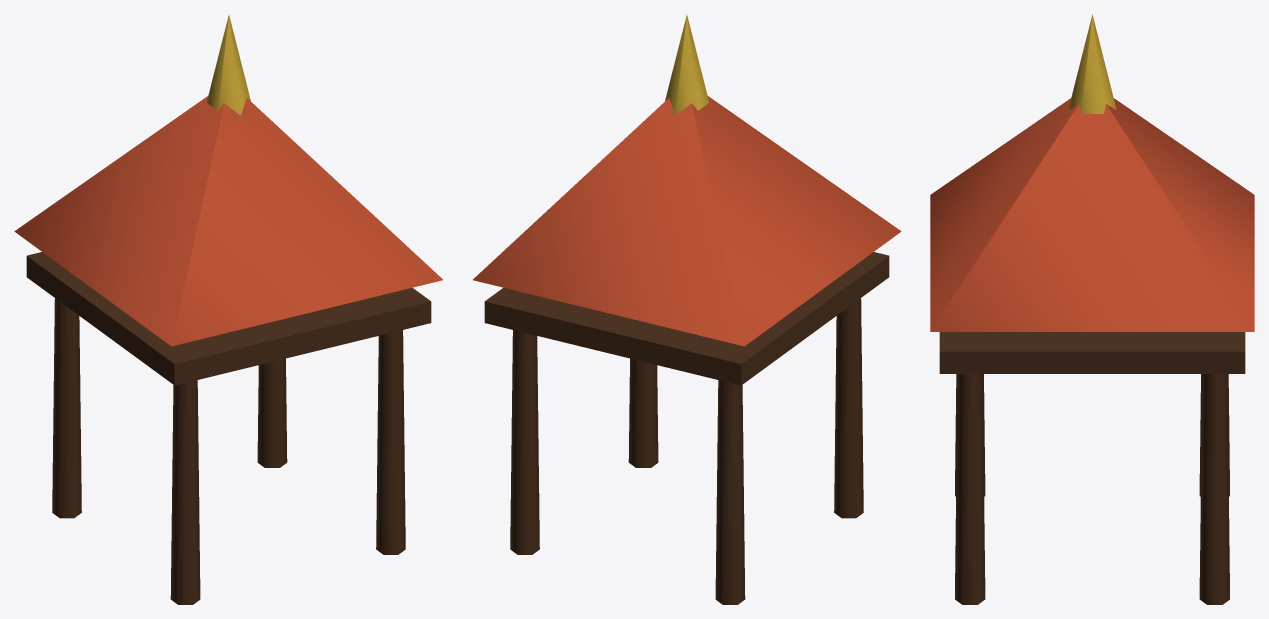
The model's file is khmer_pavilion.glb.
3 views of the same model, side by side, from view 1: azimuth 30°, elevation 25°; view 2: azimuth 150°, elevation 25°; view 3: azimuth 270°, elevation 25° (orthographic). The views are drawn at different scales.
Parts seen in each view (by area): view 1: Khmer_Pavilion; view 2: Khmer_Pavilion; view 3: Khmer_Pavilion.
Boxes of the visible parts, bbox=[...] form: Khmer_Pavilion: bbox=[14, 15, 442, 604]; Khmer_Pavilion: bbox=[473, 15, 901, 604]; Khmer_Pavilion: bbox=[930, 14, 1254, 604].
Size of the model in its own units: 1.06 by 1.92 by 1.06.
